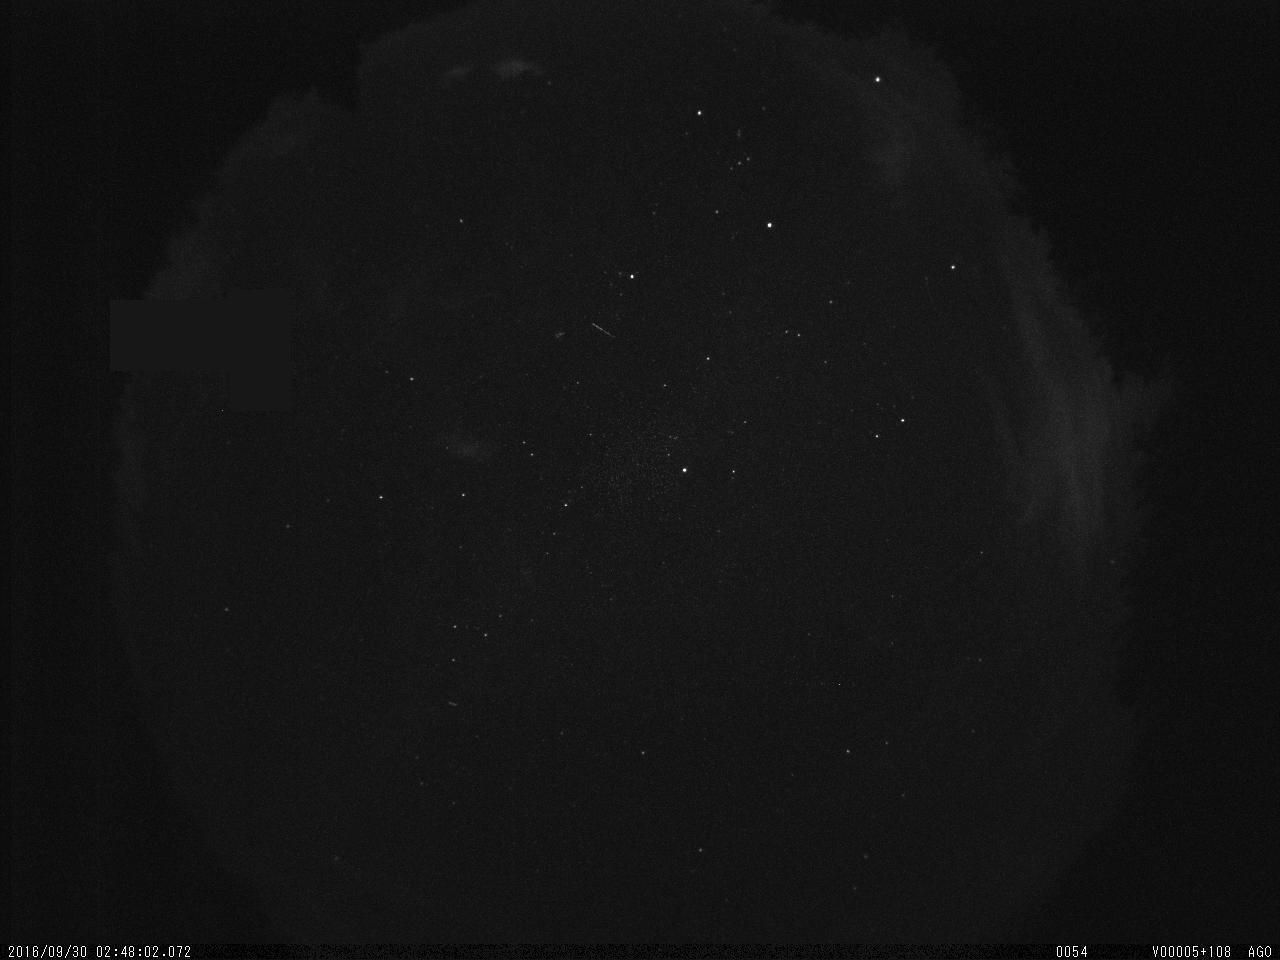Meteor: (587, 319, 614, 339)
